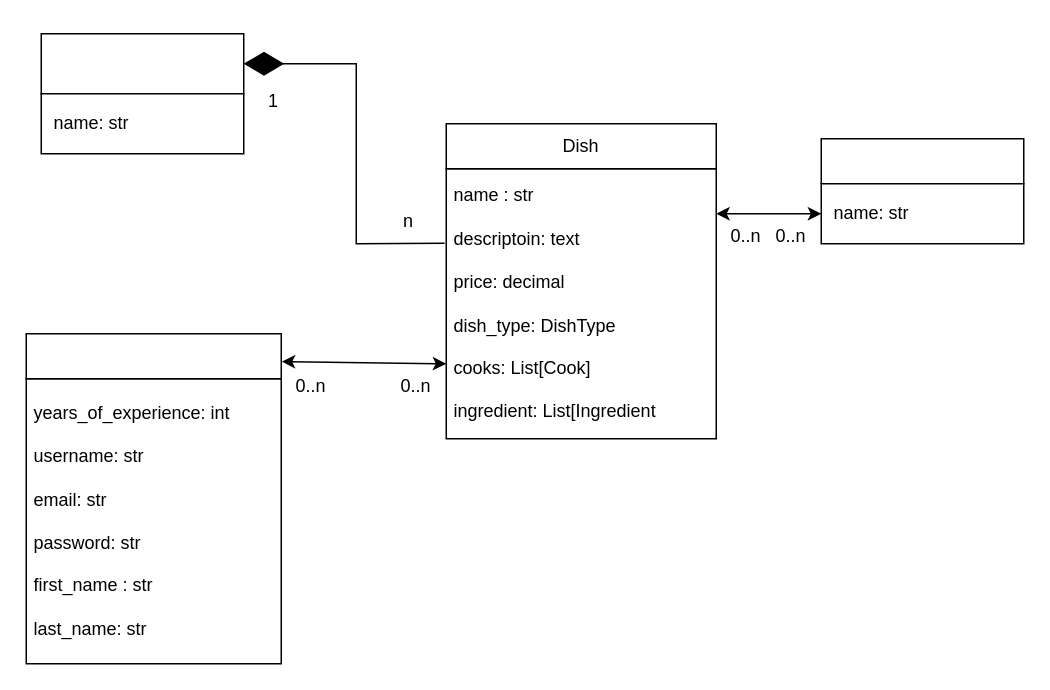
Image size: 1050x690. Some labels were removed from this diagram. Each missing label, with the centre of its shape:
"Cook(AbstractUser)" belongs at pixel 153 355.
"DishType" belongs at pixel 142 63.
"Ingredient" belongs at pixel 922 160.
